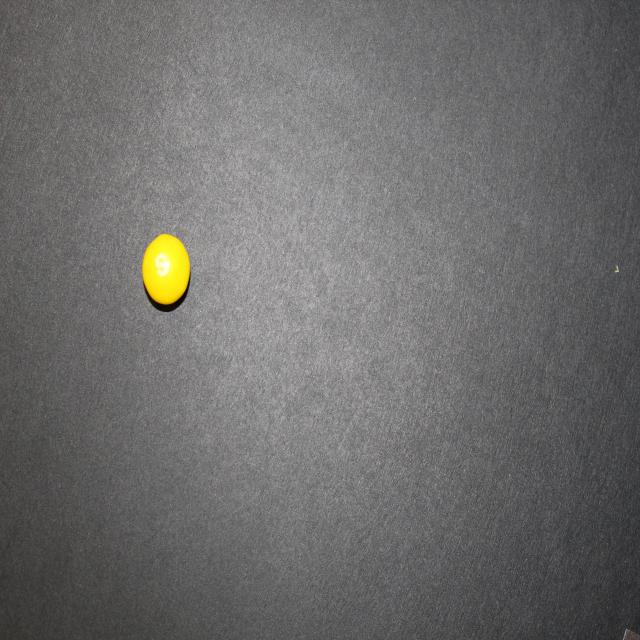smartie: (142, 233, 190, 305)
